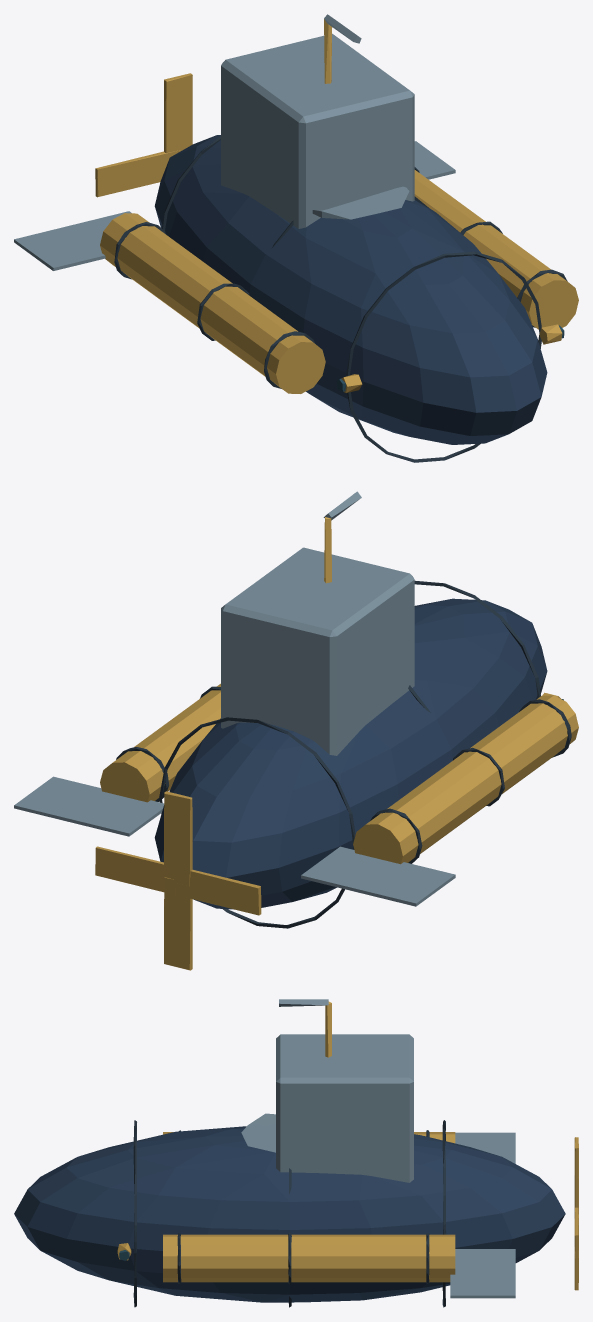
File: submarines-steampunk-sub.lod1.glb
3 views of the same model, one above another, from view 1: azimuth 30°, elevation 25°; view 2: azimuth 150°, elevation 25°; view 3: azimuth 270°, elevation 25° (orthographic). The views are drawn at different scales.
Visible parts, largest first — view 1: submarines-steampunk-sub__body, submarines-steampunk-sub__propeller, submarines-steampunk-sub__hatch; view 2: submarines-steampunk-sub__body, submarines-steampunk-sub__propeller; view 3: submarines-steampunk-sub__body, submarines-steampunk-sub__hatch, submarines-steampunk-sub__propeller.
Boxes of the visible parts, bbox=[...] form: submarines-steampunk-sub__body: bbox=[14, 14, 578, 462]; submarines-steampunk-sub__propeller: bbox=[95, 73, 192, 197]; submarines-steampunk-sub__hatch: bbox=[312, 186, 409, 219]; submarines-steampunk-sub__body: bbox=[14, 491, 578, 928]; submarines-steampunk-sub__propeller: bbox=[95, 791, 261, 970]; submarines-steampunk-sub__body: bbox=[14, 999, 565, 1307]; submarines-steampunk-sub__hatch: bbox=[241, 1113, 275, 1152]; submarines-steampunk-sub__propeller: bbox=[574, 1137, 578, 1290].
Size of the model in its own units: 10.49 by 9 by 15.36.
